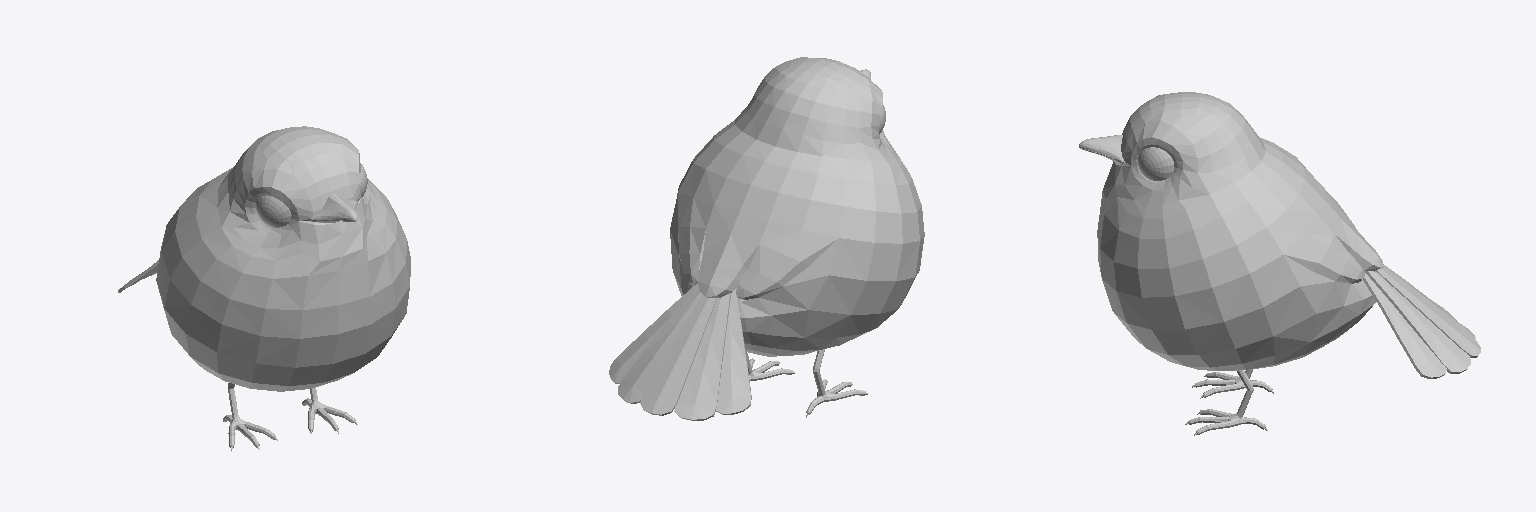
Rendered from Bird_92.obj.
3 renders of one model, left to right at view 1: azimuth 30°, elevation 25°; view 2: azimuth 150°, elevation 25°; view 3: azimuth 270°, elevation 25°, orthographic.
Visible parts, largest first — view 1: Object_51; view 2: Object_51; view 3: Object_51.
Part boxes in pixels (x1,y1,x2,y2): Object_51: (118, 126, 410, 450); Object_51: (609, 57, 924, 420); Object_51: (1079, 92, 1480, 435).
Bounding box in the file's own units: 0.418 × 0.5624 × 0.6604.